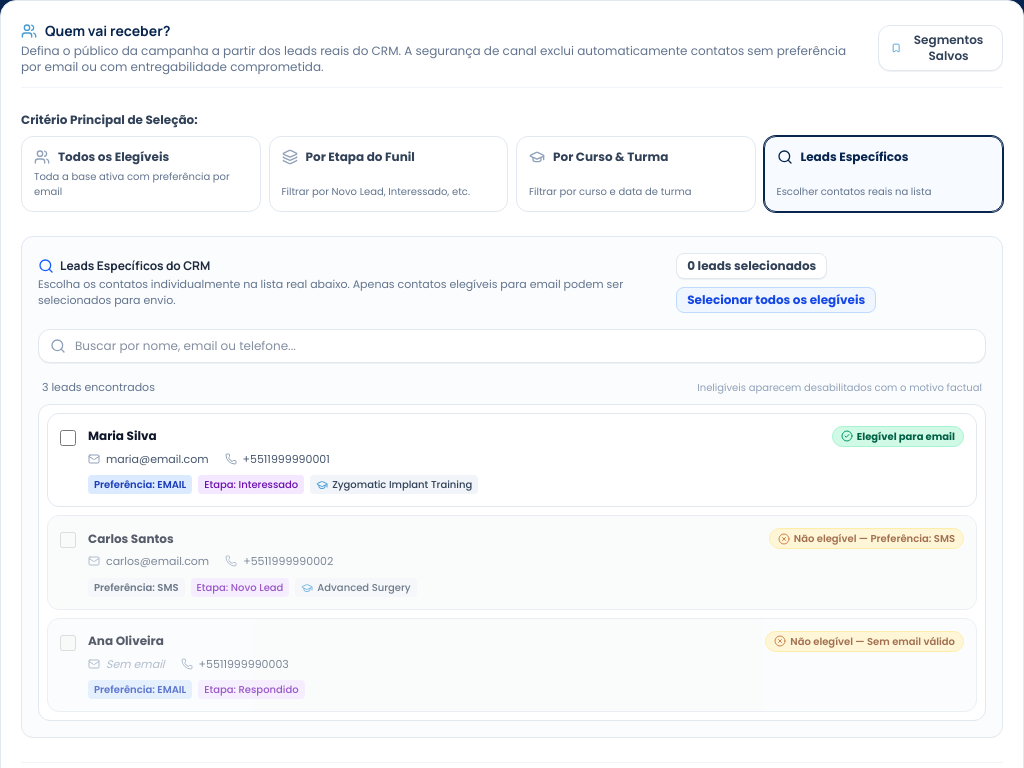
Scenario: EDS HUB — Campaign Delete, Real Lead Picker & Safe Lead Delete Suite › Part 2: Real Lead Picker in Audience Section › 9. Eligible lead can be checked, updates selected count and shows chip in "Selecionados"
Expected: the text "Maria Silva" is shown, [88,428,157,444]
What coordinates should you click on to do the following:
click the checkbox with test id "lead-select-checkbox-lead-1"
I would click on:
 (68, 438)
Its box is [60,430,76,446].
(page scrolled)
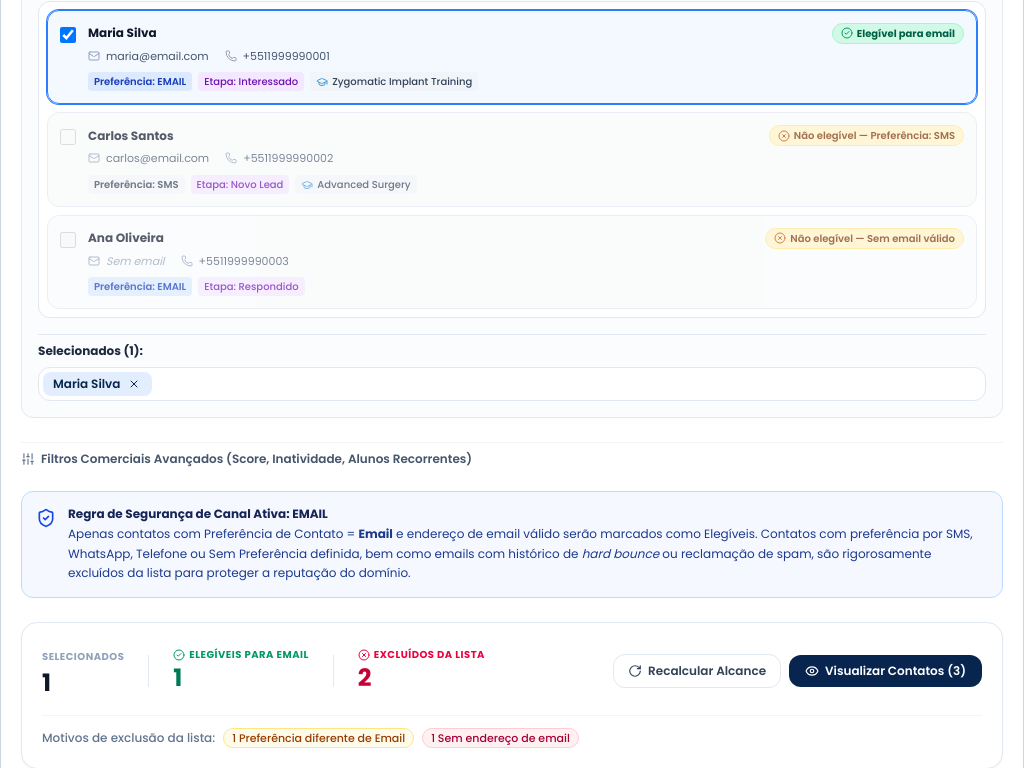
Now the button with test id "remove-selected-lead-lead-1" is shown
// Remove via chip
What coordinates should you click on to do the following:
click the button with test id "remove-selected-lead-lead-1"
I would click on:
 (134, 384)
Its box is [126,376,142,392].
(page scrolled)
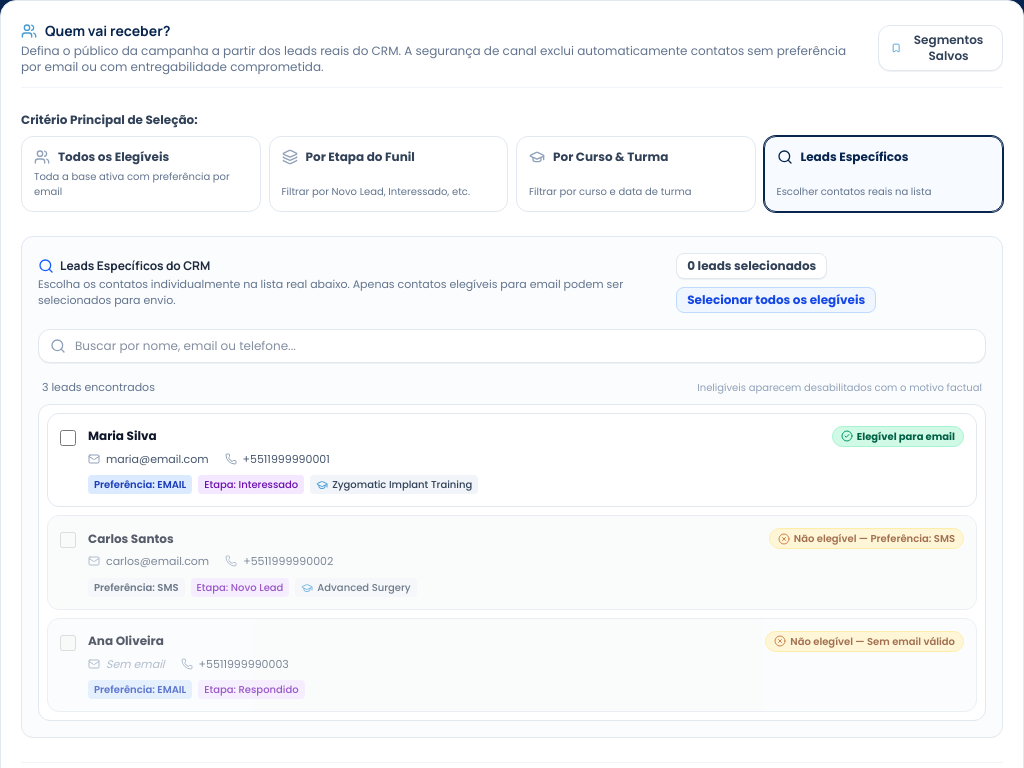
Now the text "0 leads selecionados" is shown, box [676,253,827,279]
